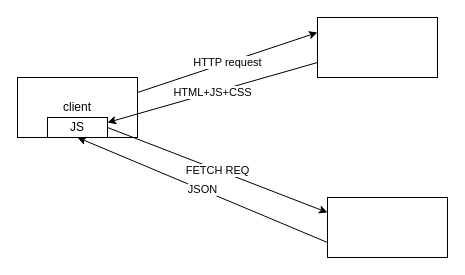
This 465x275 diagram has some shape labels left out. Here are the shapes that lost their labels. From the top down, the centre of each, then its label:
[377,47]: movies.web.app localhost:5500 (HTML APP)
[387,227]: OMDBAPI.COM localhost:8080 (FLASK)
